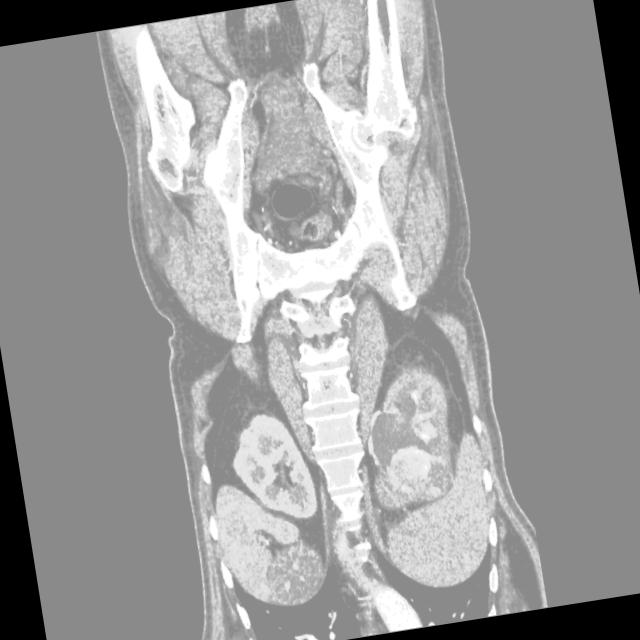TUMOR: (204, 295, 508, 545)
